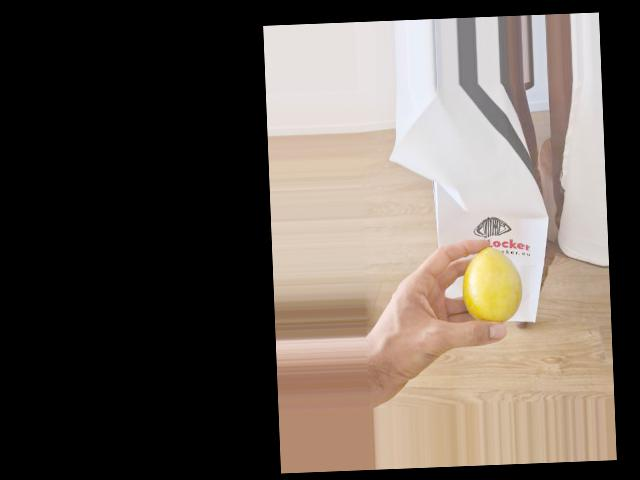lemon: (458, 249, 526, 324)
